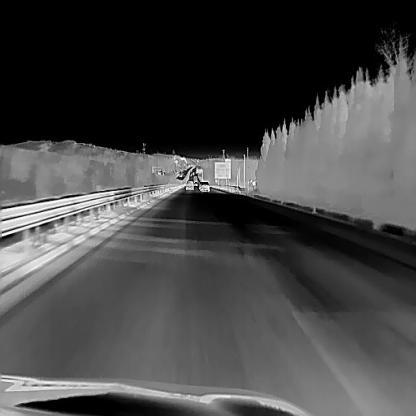car: (199, 180, 210, 192), (184, 180, 193, 190)
